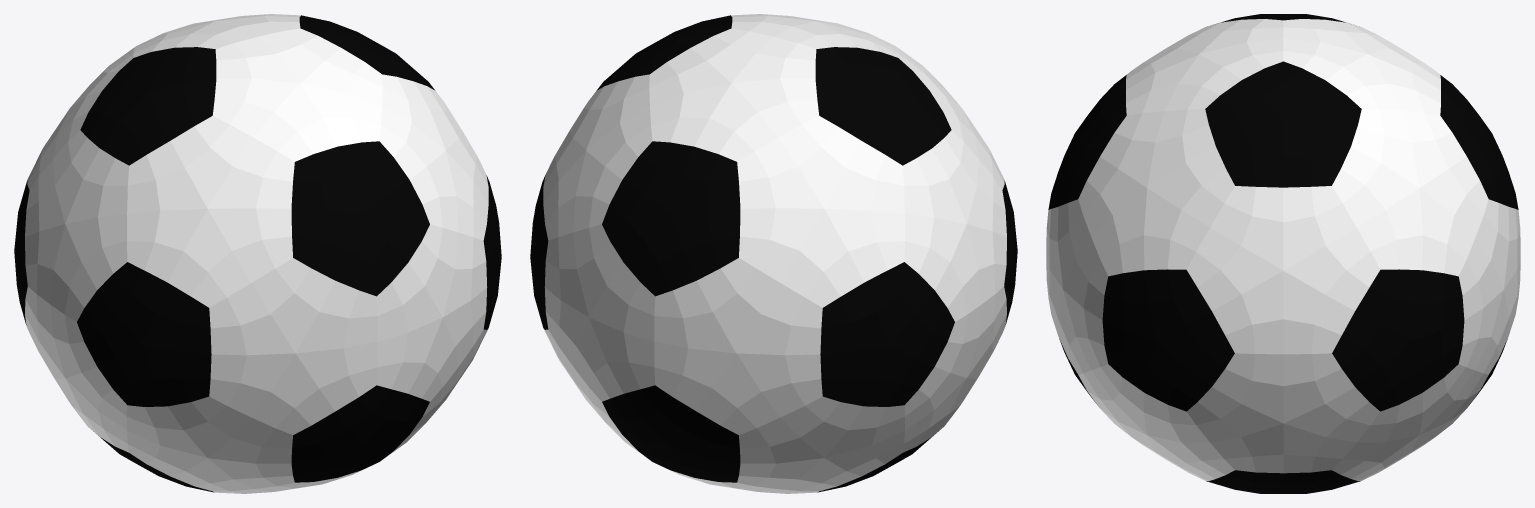
The model's file is Ball.fbx.
3 views of the same model, side by side, from view 1: azimuth 30°, elevation 25°; view 2: azimuth 150°, elevation 25°; view 3: azimuth 270°, elevation 25° (orthographic).
Parts seen in each view (by area): view 1: BallModified; view 2: BallModified; view 3: BallModified.
Boxes of the visible parts, x1,y1,x2,y2 form: BallModified: (14, 14, 501, 493); BallModified: (530, 14, 1017, 493); BallModified: (1046, 14, 1520, 493).
Bounding box in the file's own units: 22.01 × 22.01 × 22.01.
